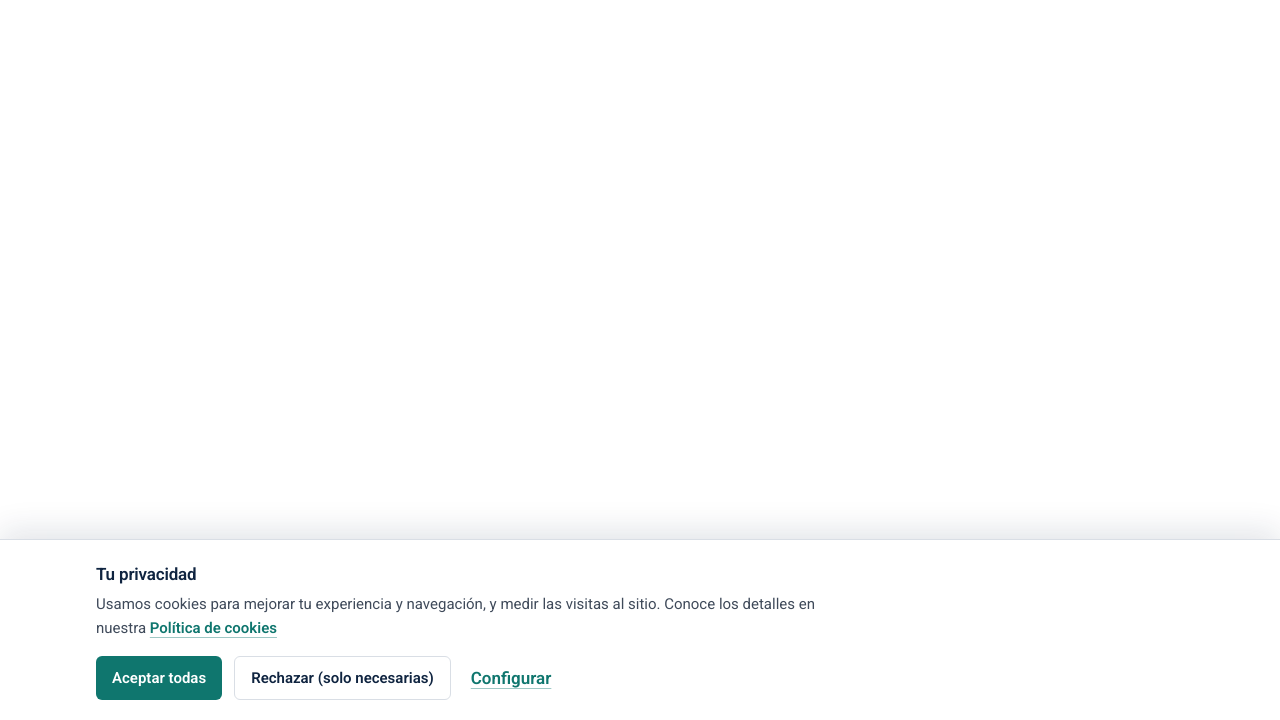
Test: aviso de cookies › se reabre desde las preferencias y permite elegir medición
Click the button "Rechazar (solo necesarias)" at (342, 678), box [234,656,451,700]
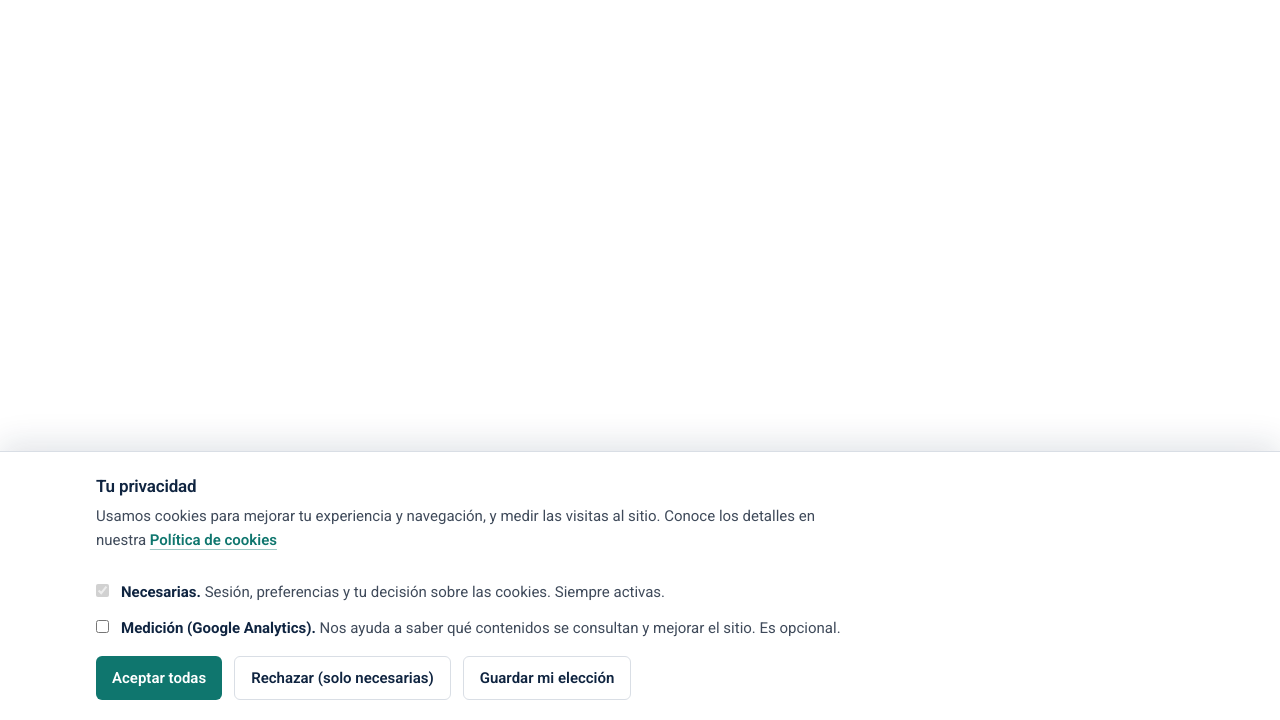
Expected: the dialog is shown, [0,451,1279,719]
Now the checkbox labelled "Medición (Google Analytics)" is not checked, box [96,620,109,633]
Now the checkbox labelled "Medición (Google Analytics)" is enabled, box [96,620,109,633]
